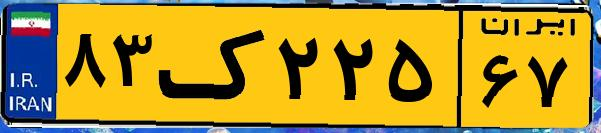2: (270, 28, 330, 110), (330, 28, 385, 110)
3: (110, 28, 158, 98)
5: (385, 28, 445, 110)
6: (475, 38, 525, 113)
7: (525, 38, 570, 115)
8: (57, 26, 110, 100)
ک: (158, 12, 270, 120)
